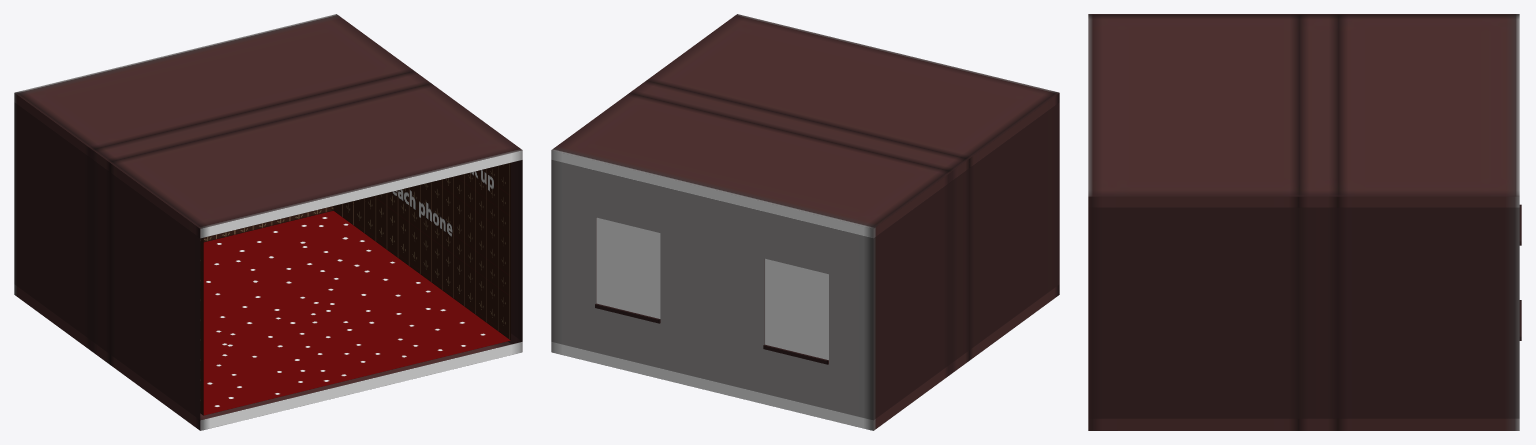
File: corridor_FINAL2.fbx
3 renders of one model, left to right at view 1: azimuth 30°, elevation 25°; view 2: azimuth 150°, elevation 25°; view 3: azimuth 270°, elevation 25°, orthographic. The views are drawn at different scales.
Parts seen in each view (by area): view 1: Final_Room01; view 2: Final_Room01; view 3: Final_Room01.
Boxes of the visible parts, x1,y1,x2,y2 form: Final_Room01: (14,14,522,430); Final_Room01: (551,14,1059,430); Final_Room01: (1088,14,1521,430).
Size of the model in its own units: 23.6 by 14.14 by 23.69.
